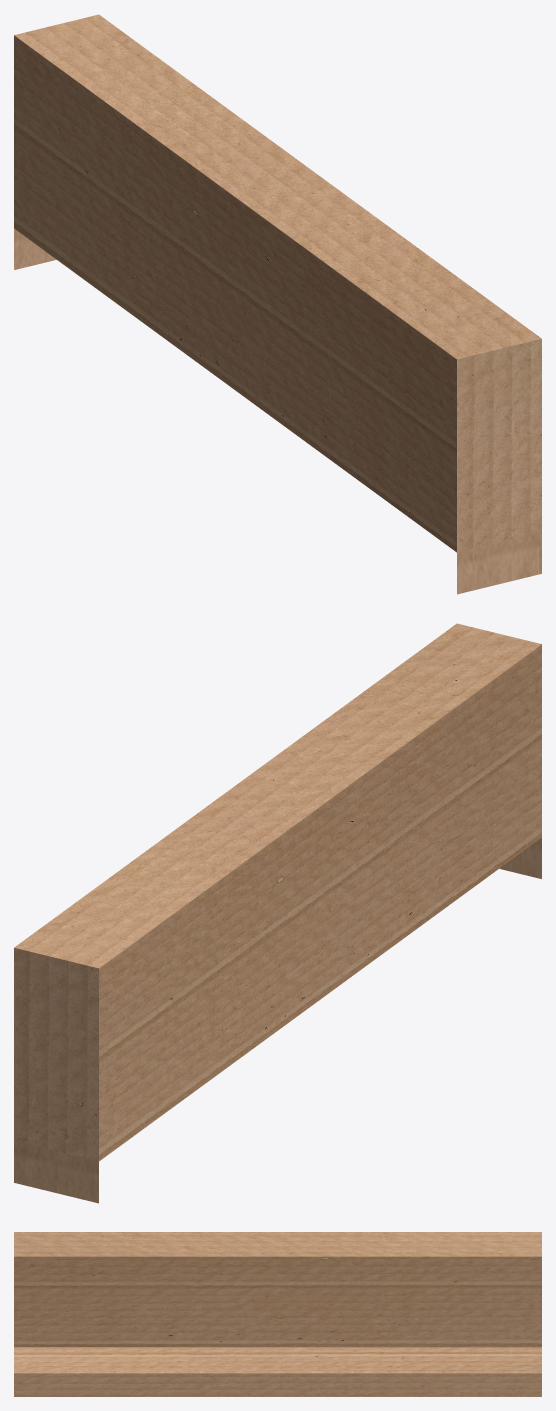
Rendered from Cardboard3D.glb.
The picture shows the model from 3 angles, top to bottom: view 1: azimuth 30°, elevation 25°; view 2: azimuth 150°, elevation 25°; view 3: azimuth 270°, elevation 25°; orthographic projection. The views are drawn at different scales.
Parts seen in each view (by area): view 1: Cardboard; view 2: Cardboard; view 3: Cardboard.
Boxes of the visible parts, left/top/right/bottom form: Cardboard: left=14, top=14, right=541, bottom=594; Cardboard: left=14, top=623, right=541, bottom=1203; Cardboard: left=14, top=1232, right=541, bottom=1396.
Size of the model in its own units: 2 by 5.28 by 18.05.
Materials: 1 (1 with a texture image).
